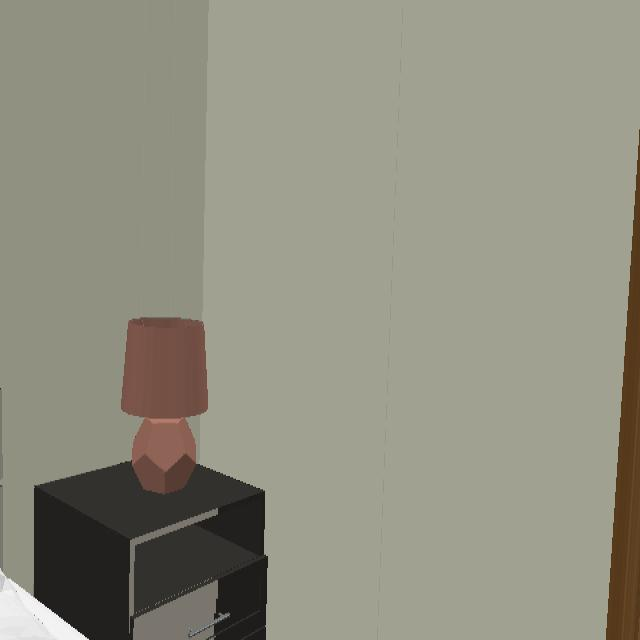lamp: (120, 317, 208, 496)
nighttable: (33, 463, 269, 640)
